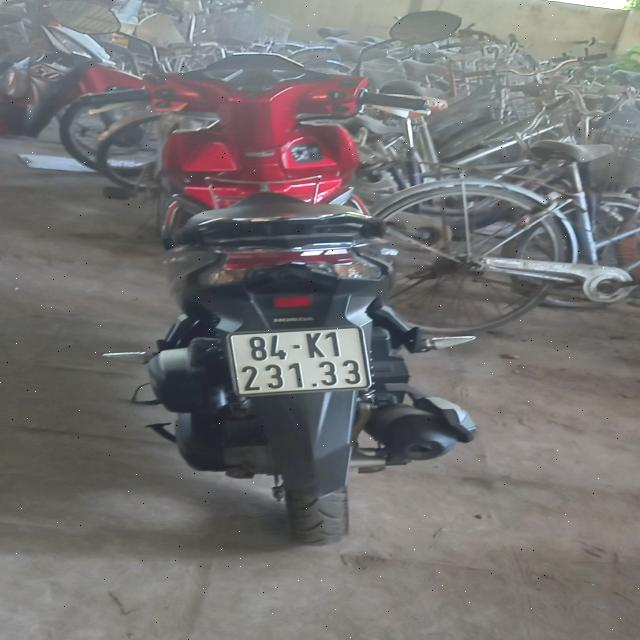1: (288, 362, 304, 389), (325, 332, 340, 357)
2: (241, 366, 260, 391)
3: (319, 361, 338, 386), (342, 360, 361, 384), (265, 364, 283, 389)
4: (268, 335, 288, 360)
8: (250, 336, 268, 361)
K: (305, 333, 325, 359)
